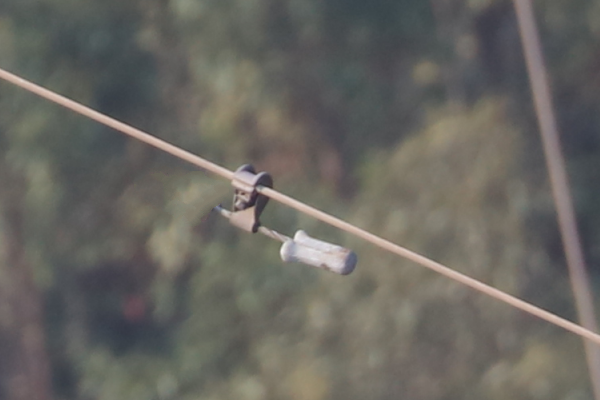damper_defect: (209, 160, 356, 279)
